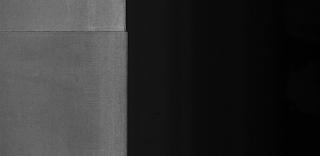welding line: (0, 26, 150, 40)
